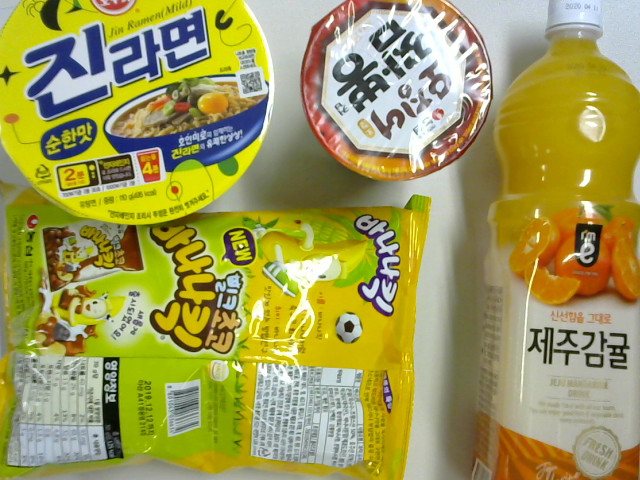Banana_Kick: (3, 188, 434, 480)
Jeju_Tangerine_1.5L: (489, 4, 637, 480)
Jinlamyeon_Mild_Taste_Large_Cup: (1, 8, 279, 224)
Ojjam: (297, 2, 491, 182)
